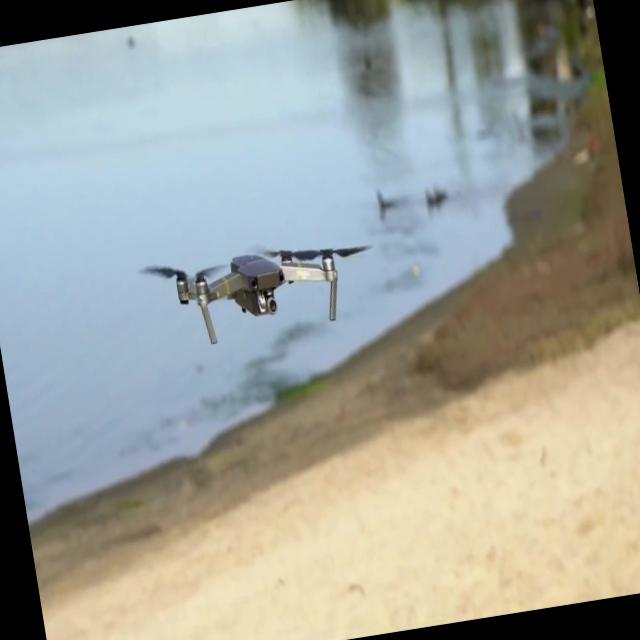drone: (170, 226, 386, 353)
